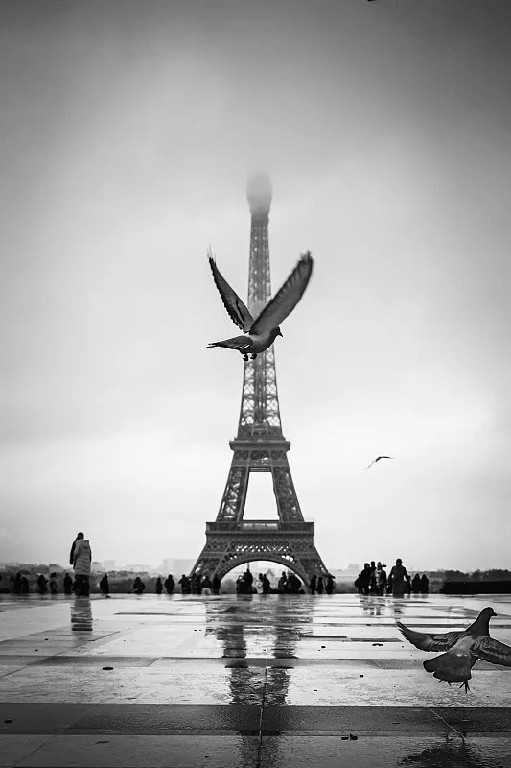Eiffel: (189, 171, 329, 593)
